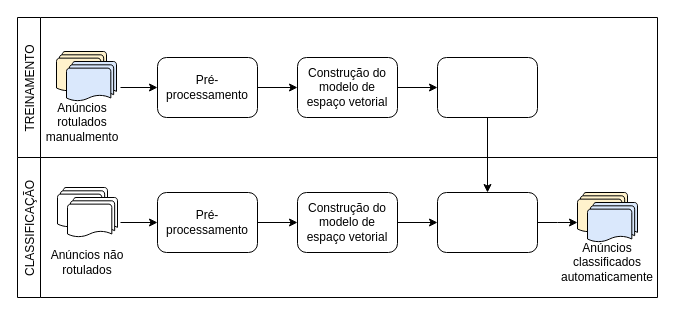
The diagram is 675 pixels wide and 315 high, and some of its shapes have lost their labels. Each missing label, with the centre of its shape:
"Classificador" belongs at (x=487, y=222).
"Indução do modelo de classificação" belongs at (x=487, y=87).
